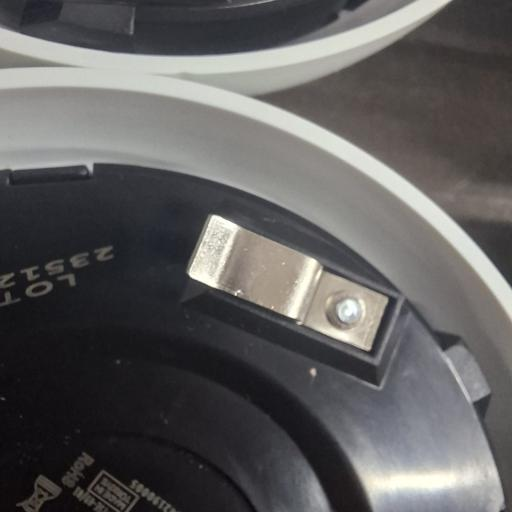yaysiz: (184, 214, 390, 354)
